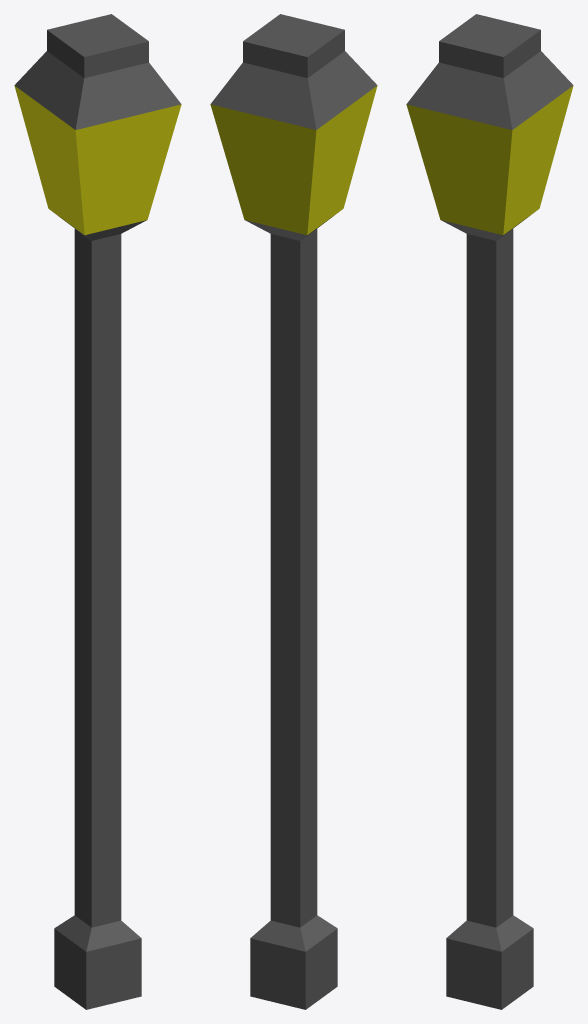
The model's file is Lampadaire.glb.
The picture shows the model from 3 angles, left to right: view 1: azimuth 30°, elevation 25°; view 2: azimuth 150°, elevation 25°; view 3: azimuth 330°, elevation 25°; orthographic projection.
Parts seen in each view (by area): view 1: Lampadaire_Structure, Lampadaire_Lumiere; view 2: Lampadaire_Structure, Lampadaire_Lumiere; view 3: Lampadaire_Structure, Lampadaire_Lumiere.
Part boxes in pixels (left/top/right/bottom): Lampadaire_Structure: left=14, top=14, right=181, bottom=1009; Lampadaire_Lumiere: left=14, top=85, right=181, bottom=234; Lampadaire_Structure: left=210, top=14, right=377, bottom=1009; Lampadaire_Lumiere: left=210, top=85, right=377, bottom=234; Lampadaire_Structure: left=406, top=14, right=573, bottom=1009; Lampadaire_Lumiere: left=406, top=85, right=573, bottom=234.
Bounding box in the file's own units: 0.3349 × 2.88 × 0.3349.
